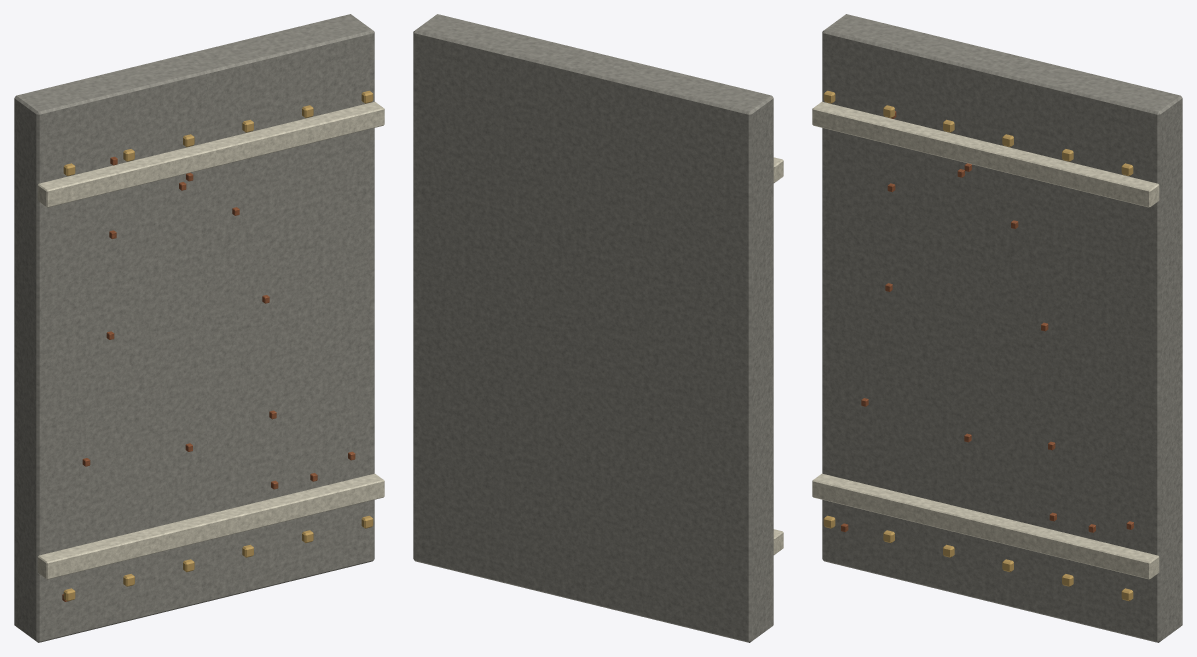
The model's file is TUNN22CC_lod0.glb.
3 renders of one model, left to right at view 1: azimuth 30°, elevation 25°; view 2: azimuth 150°, elevation 25°; view 3: azimuth 330°, elevation 25°, orthographic.
Visible parts, largest first — view 1: TUNN22CC_LOD0; view 2: TUNN22CC_LOD0; view 3: TUNN22CC_LOD0.
Boxes of the visible parts, bbox=[...] form: TUNN22CC_LOD0: bbox=[14, 14, 384, 642]; TUNN22CC_LOD0: bbox=[413, 14, 783, 642]; TUNN22CC_LOD0: bbox=[812, 14, 1182, 642].
Bounding box in the file's own units: 2 × 3 × 0.39.
4 materials, 3 textured.
